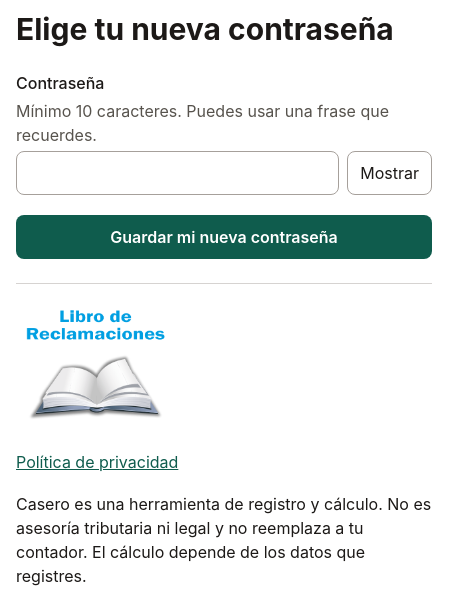
password recovery › sets the new password with the token of the link
This screenshot has width=449, height=603.
Type "otra clave bien larga" into the password field labelled "Contraseña" at (178, 173), box [16, 151, 339, 195]
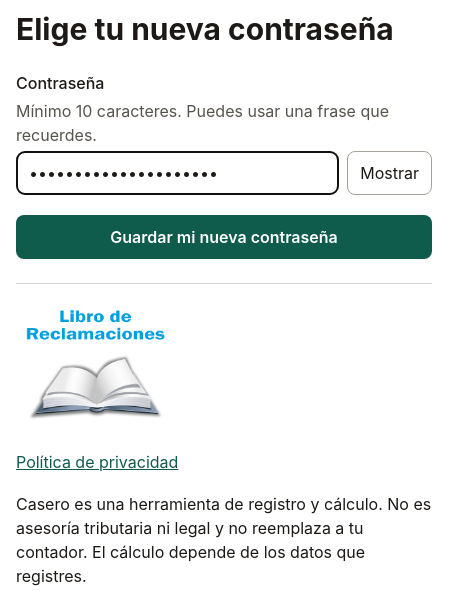
Click the button "Guardar mi nueva contraseña" at (224, 237), box [16, 215, 432, 259]
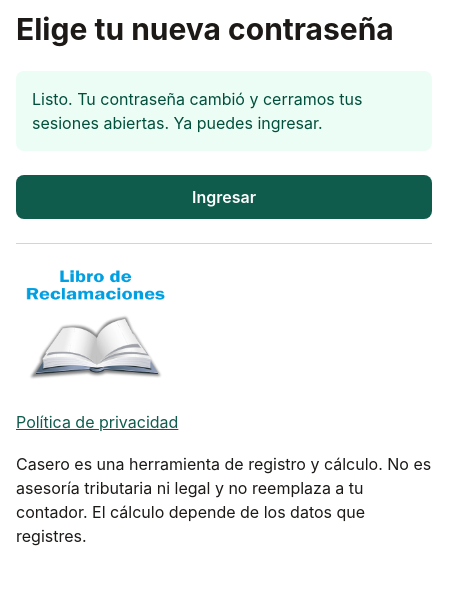
Result: the message shows "Tu contraseña cambió" at [32, 89, 362, 133]
